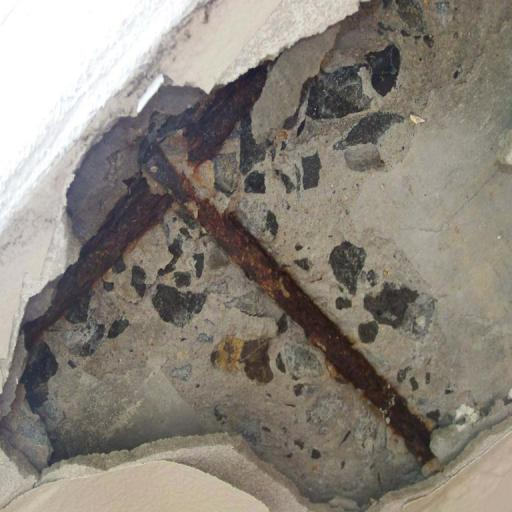spalling: (0, 5, 512, 512)
